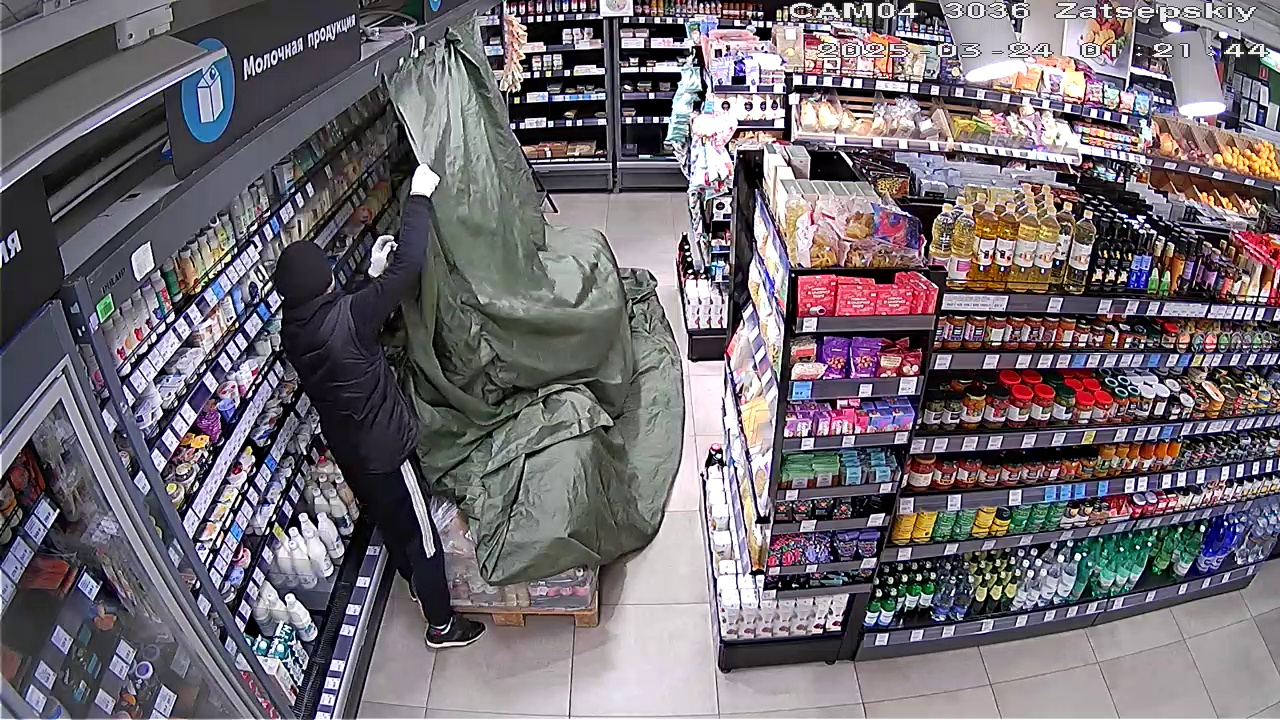Human: (267, 176, 481, 645)
dome: (377, 51, 684, 585)
